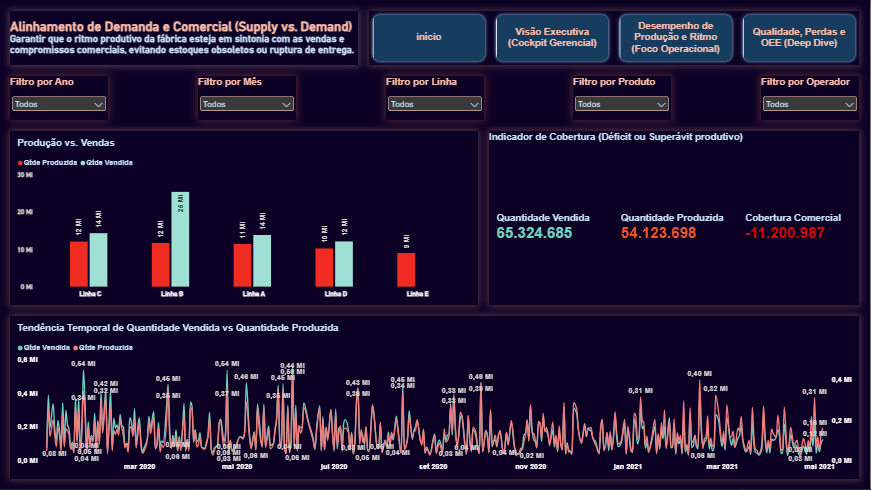

Layout of this report page (visuals, bound fields, positions):
{"tool":"powerbi","page":{"name":"Alinhamento de Demanda e Comercial (Supply vs. Demand)","canvas":[1920,1080],"ordinal":4},"visuals":[{"type":"textbox","box":[24,24,768,120],"z":0},{"type":"pageNavigator","title":"Navegação","box":[816,24,1080,120],"z":1000},{"type":"slicer","title":"Filtro por  Ano","fields":{"Values":["dCalendario.Ano"]},"box":[24,168,216,96],"z":1001},{"type":"slicer","title":"Filtro por Mês","fields":{"Values":["dCalendario.Mês"]},"box":[438,168,216,96],"z":1002},{"type":"slicer","title":"Filtro por Linha","fields":{"Values":["dLinhaProducao.NomeLinha"]},"box":[852,168,216,96],"z":1003},{"type":"slicer","title":"Filtro por Produto","fields":{"Values":["dProduto.NomeProduto"]},"box":[1266,168,216,96],"z":1004},{"type":"slicer","title":"Filtro por Operador","fields":{"Values":["dOperador.NomeOperador"]},"box":[1680,168,216,96],"z":1005},{"type":"clusteredColumnChart","title":"Produção vs. Vendas","fields":{"Category":["dLinhaProducao.NomeLinha"],"Y":["_Medidas.Qtde Produzida","_Medidas.Qtde Vendida"]},"box":[24,288,1032,384],"z":1006},{"type":"cardVisual","title":"Indicador de Cobertura (Déficit ou Superávit produtivo)","fields":{"Data":["_Medidas.Qtde Vendida","_Medidas.Qtde Produzida","_Medidas.Saldo Comercial"]},"box":[1080,288,816,384],"z":1007},{"type":"lineChart","title":"Tendência Temporal de  Quantidade Vendida vs Quantidade Produzida ","fields":{"Category":["dCalendario.Date"],"Y":["_Medidas.Qtde Vendida"],"Y2":["_Medidas.Qtde Produzida"]},"box":[24,696,1872,360],"z":1008}]}

Visuals, with their boxes in screenshot pixels (x1, y1, x2, y2), scaled from the page's 1920x1080 canvas onto the 871x490 screenshot:
textbox: (x1=11, y1=11, x2=359, y2=65)
"Navegação" pageNavigator: (x1=370, y1=11, x2=860, y2=65)
"Filtro por  Ano" slicer: (x1=11, y1=76, x2=109, y2=120)
"Filtro por Mês" slicer: (x1=199, y1=76, x2=297, y2=120)
"Filtro por Linha" slicer: (x1=387, y1=76, x2=484, y2=120)
"Filtro por Produto" slicer: (x1=574, y1=76, x2=672, y2=120)
"Filtro por Operador" slicer: (x1=762, y1=76, x2=860, y2=120)
"Produção vs. Vendas" clusteredColumnChart: (x1=11, y1=131, x2=479, y2=305)
"Indicador de Cobertura (Déficit ou Superávit produtivo)" cardVisual: (x1=490, y1=131, x2=860, y2=305)
"Tendência Temporal de  Quantidade Vendida vs Quantidade Produzida " lineChart: (x1=11, y1=316, x2=860, y2=479)
